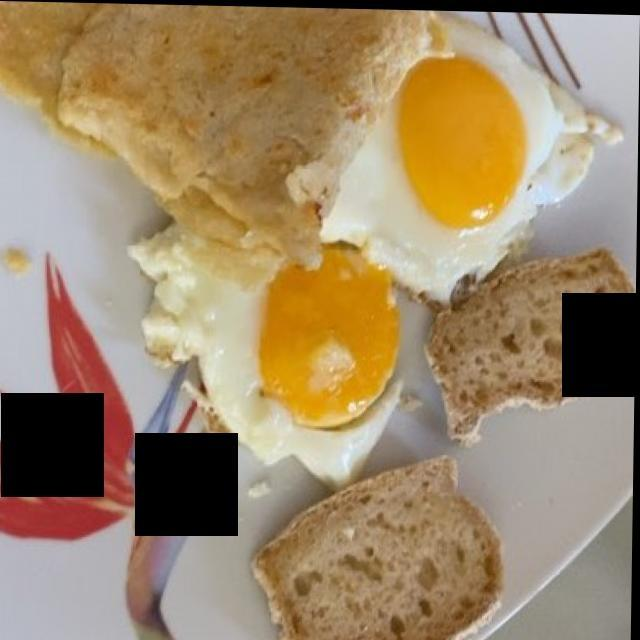bread: (264, 267, 637, 640)
egg: (137, 45, 596, 474)
